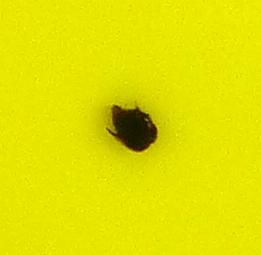Hymenoptera: (100, 100, 161, 155)
